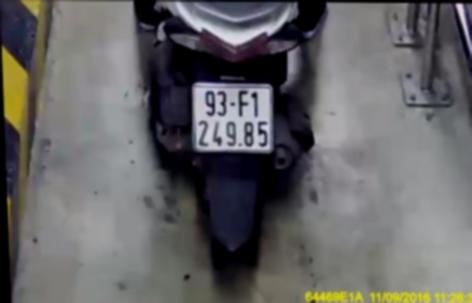License_Plate: (179, 78, 286, 156)
